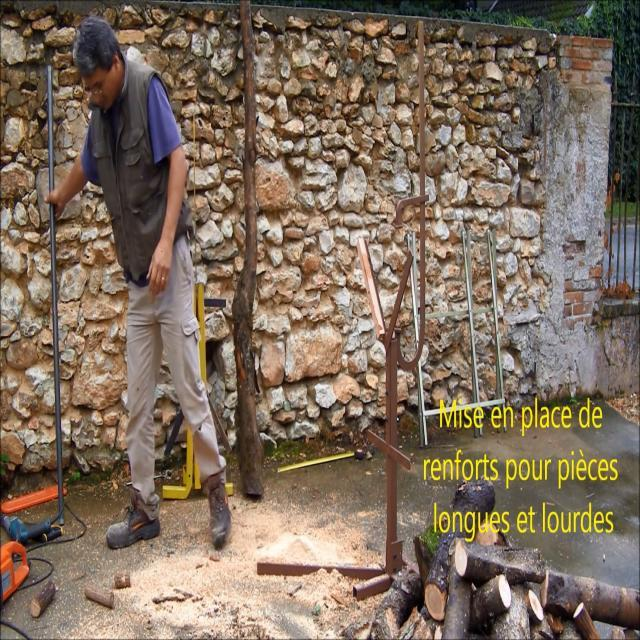Chainsaw: (0, 500, 58, 625)
